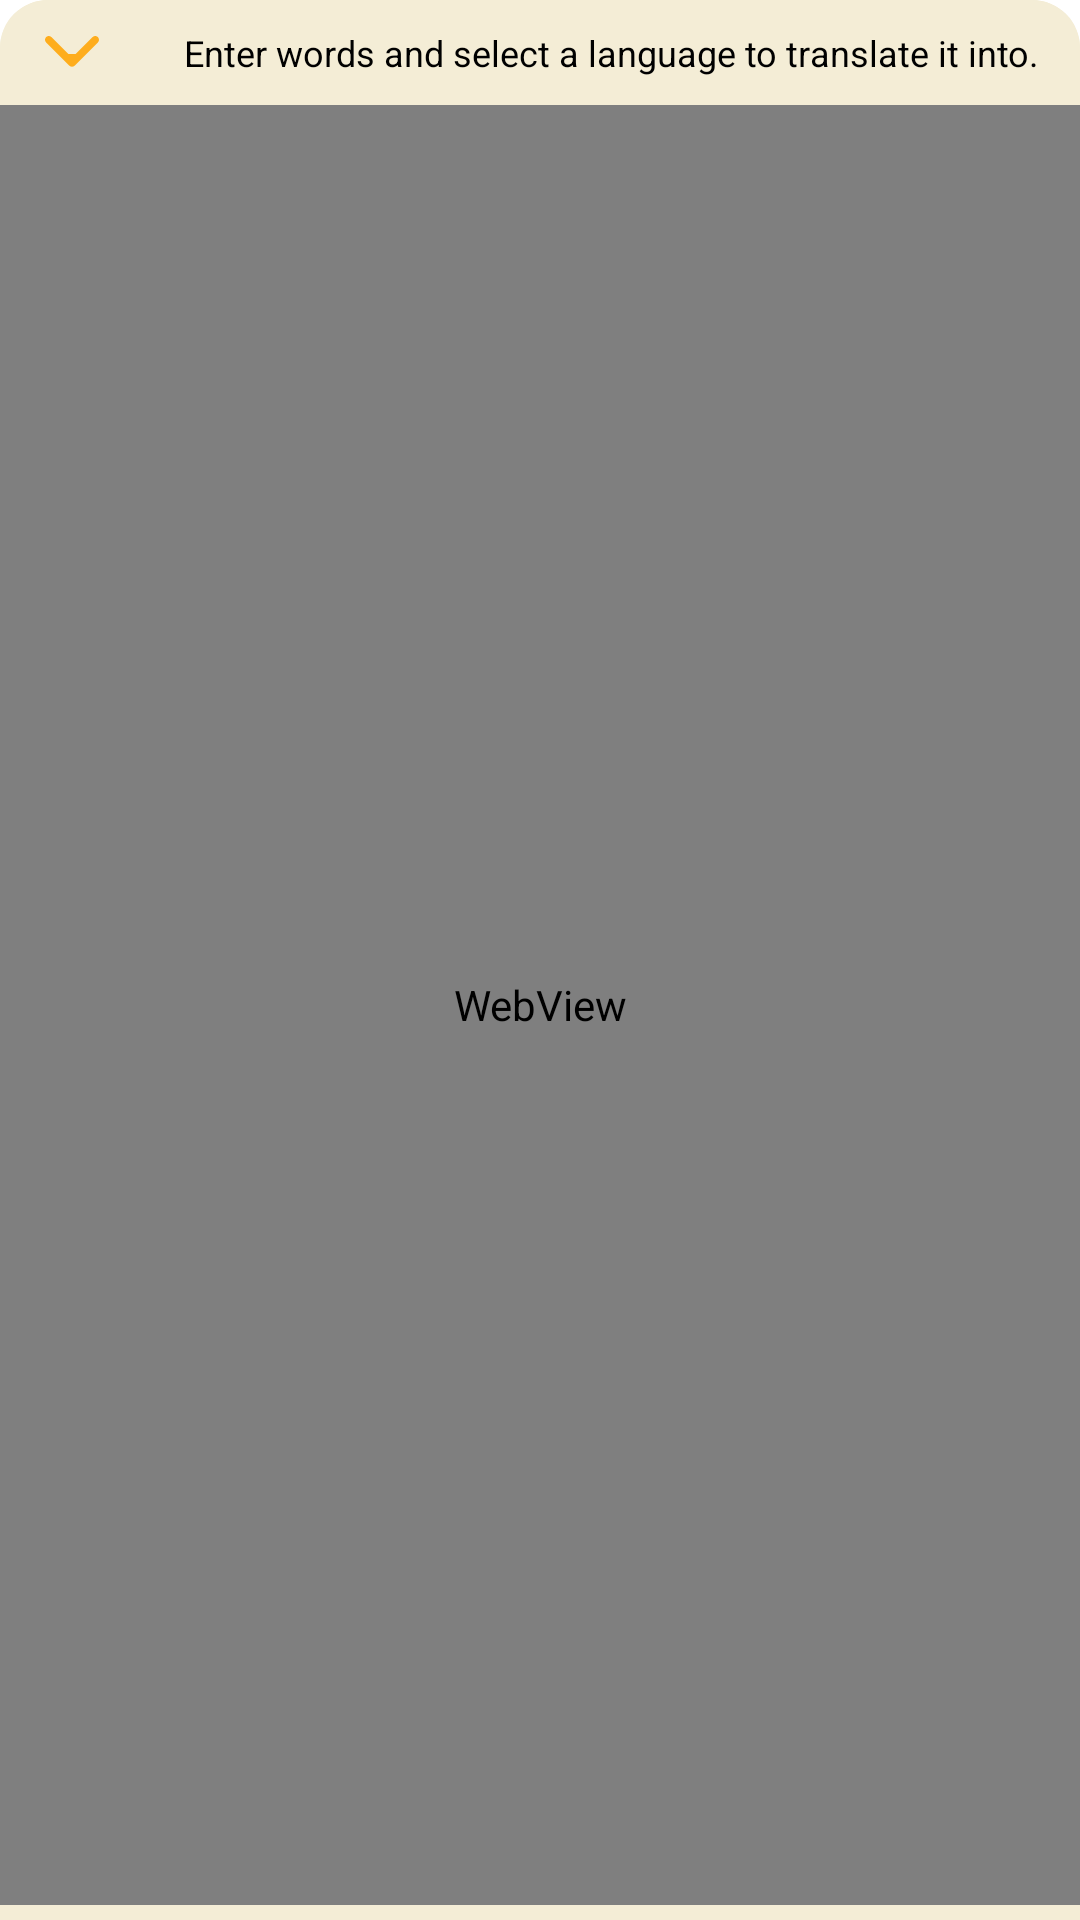

Named icons in this screenshot (1080w x 1920h) and their centers, (x=x, y=y):
button to dismiss bottom sheet fragment: (x=72, y=52)
